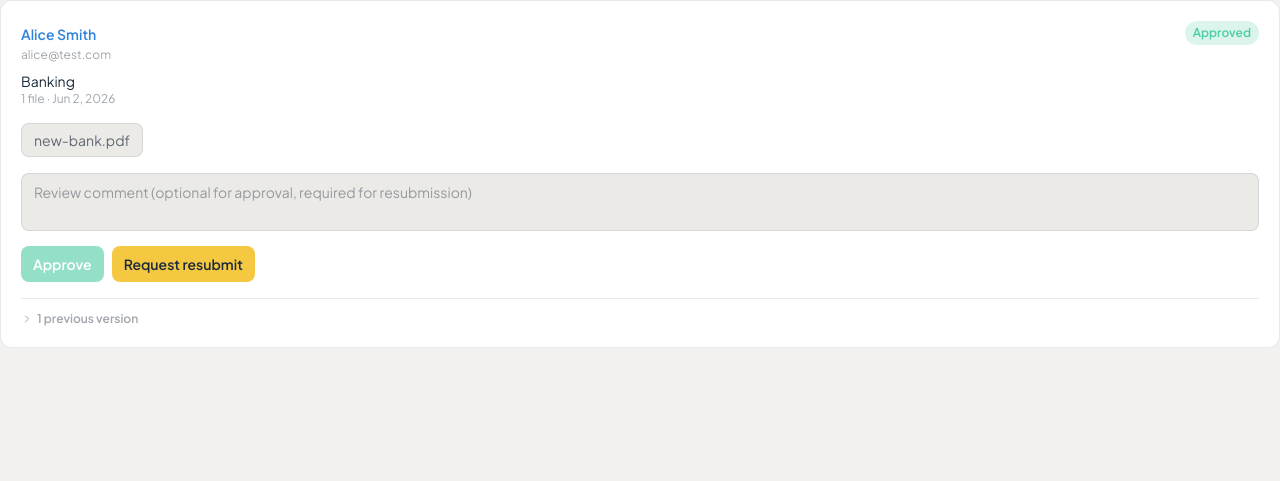
DocumentSubmissionsQueue › groups previous versions behind the latest and only renders review controls for the latest
Expected: the link "new-bank.pdf" is shown, [21,123,143,157]
Click the heading "1 previous version": click(80, 318) [21,311,138,326]
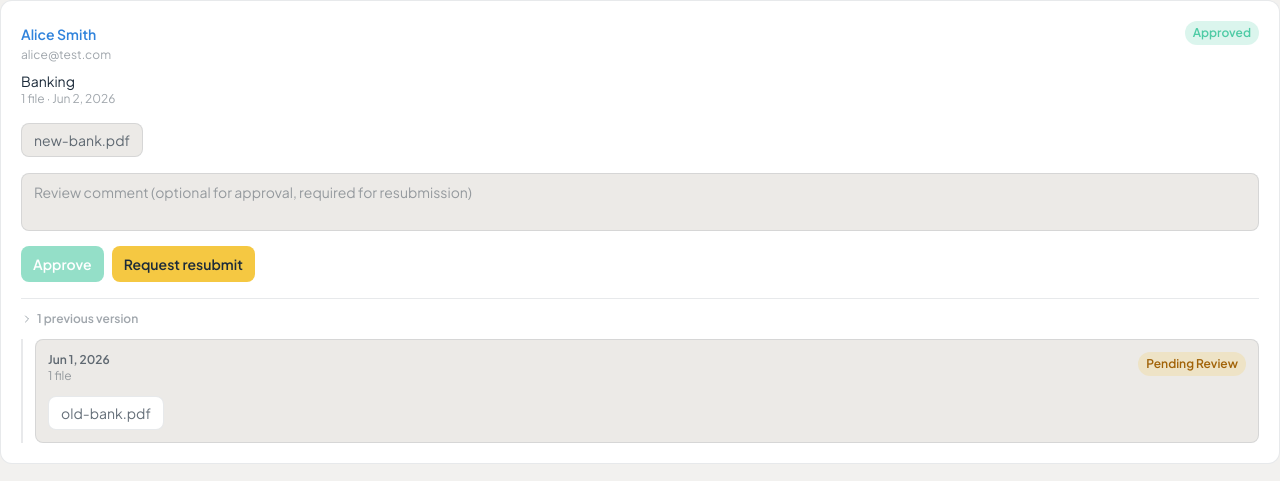
Expected: the number of buttons "Approve" is 1, [21,246,104,282]
Expected: the link "old-bank.pdf" is shown, [48,396,164,430]
